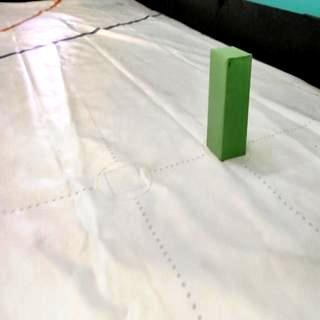greenbox: (206, 44, 252, 160)
